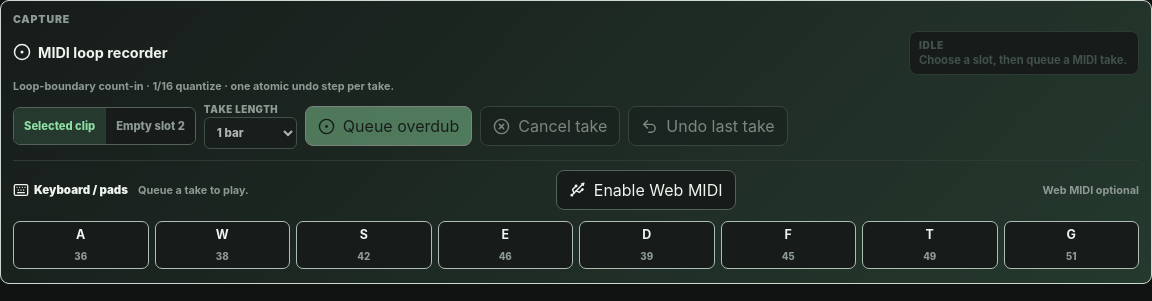
Test: MidiRecorder › keeps keyboard and pads available when Web MIDI permission is denied
Click the button "Enable Web MIDI" at (646, 190), box [556, 170, 736, 210]
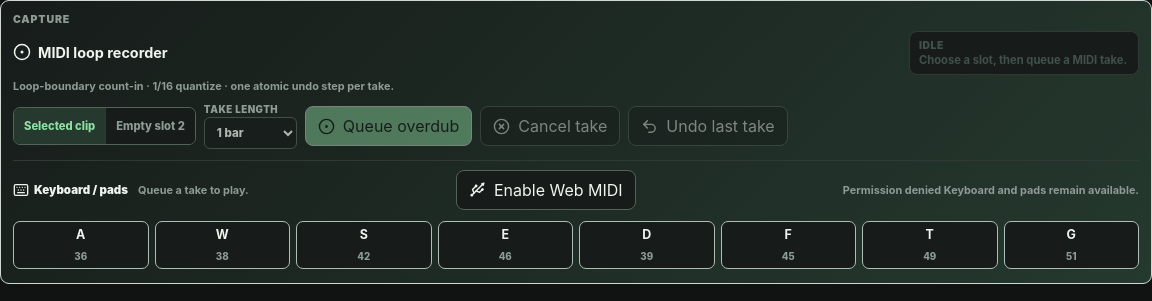
expect the button "Empty slot 2" is enabled: met, box [106, 108, 195, 144]
expect the text "Permission denied Keyboard and pads remain available." is shown: met, box [843, 183, 1139, 197]
